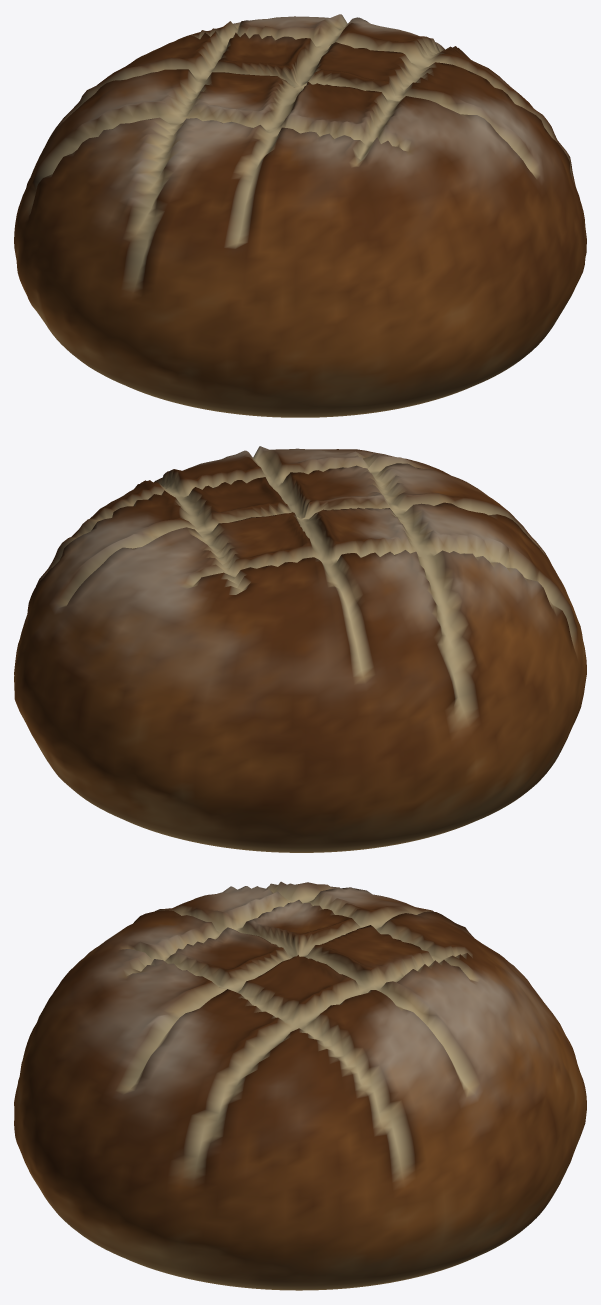
The model's file is koenig-ludwig-750g.glb.
3 views of the same model, one above another, from view 1: azimuth 30°, elevation 25°; view 2: azimuth 150°, elevation 25°; view 3: azimuth 270°, elevation 25° (orthographic).
Visible parts, largest first — view 1: koenig-ludwig-750g; view 2: koenig-ludwig-750g; view 3: koenig-ludwig-750g.
Boxes of the visible parts, x1,y1,x2,y2 form: koenig-ludwig-750g: (14,14,586,417); koenig-ludwig-750g: (14,446,586,852); koenig-ludwig-750g: (14,881,586,1290).
Size of the model in its own units: 0.206 by 0.0973 by 0.206.
